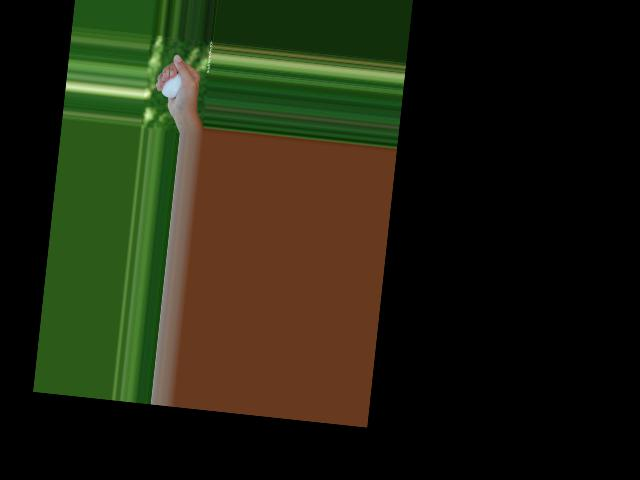egg: (160, 70, 183, 98)
